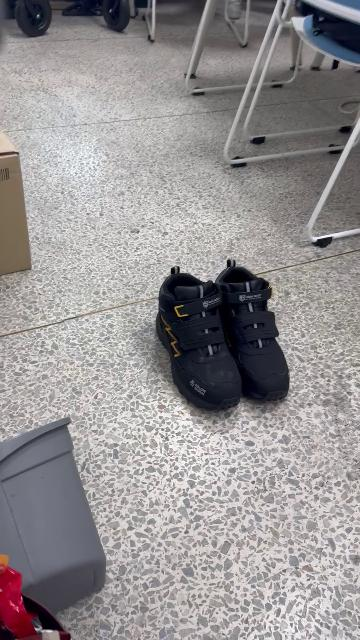shoe_worn: (153, 267, 242, 409), (213, 259, 293, 404)
